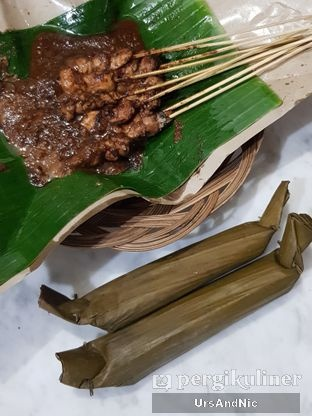sate_madura: (51, 17, 312, 168)
